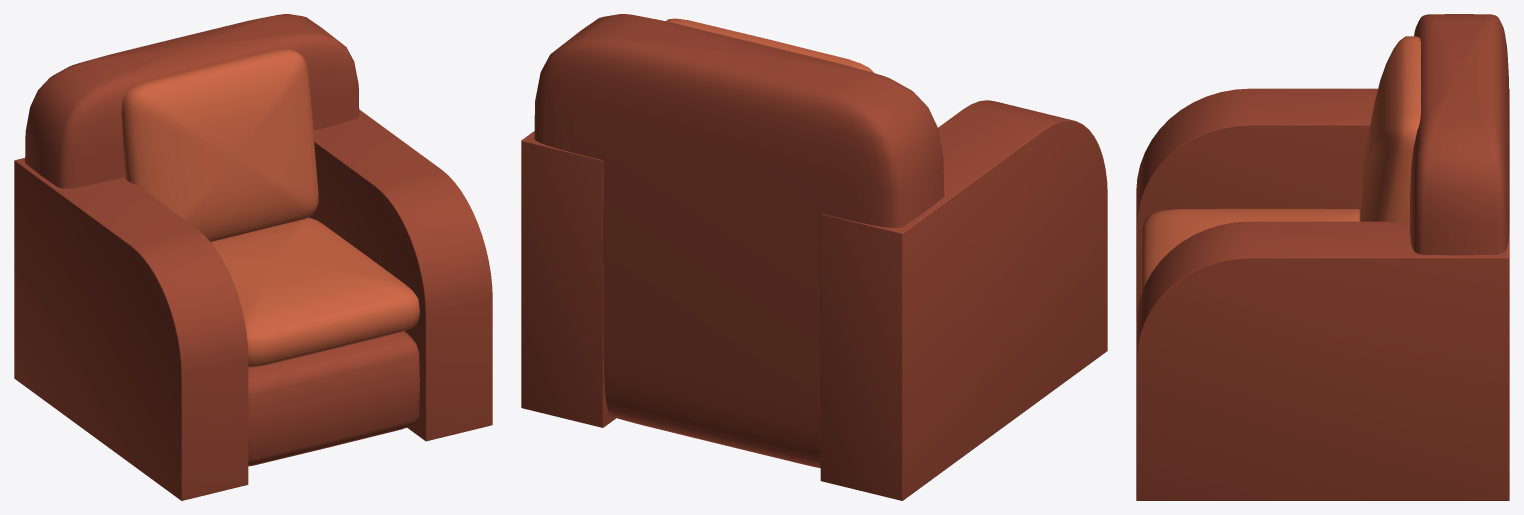
The model's file is poltrona_clube_terracota.glb.
The picture shows the model from 3 angles, left to right: view 1: azimuth 30°, elevation 25°; view 2: azimuth 150°, elevation 25°; view 3: azimuth 270°, elevation 25°; orthographic projection. The views are drawn at different scales.
Visible parts, largest first — view 1: poltrona_clube_terracota; view 2: poltrona_clube_terracota; view 3: poltrona_clube_terracota.
Part boxes in pixels (box(x1,y1,x2,y2)): poltrona_clube_terracota: box(14, 14, 492, 500); poltrona_clube_terracota: box(521, 14, 1107, 500); poltrona_clube_terracota: box(1136, 14, 1509, 500).
Size of the model in its own units: 0.88 by 0.87 by 0.82.
Materials: 1 (1 with a texture image).
